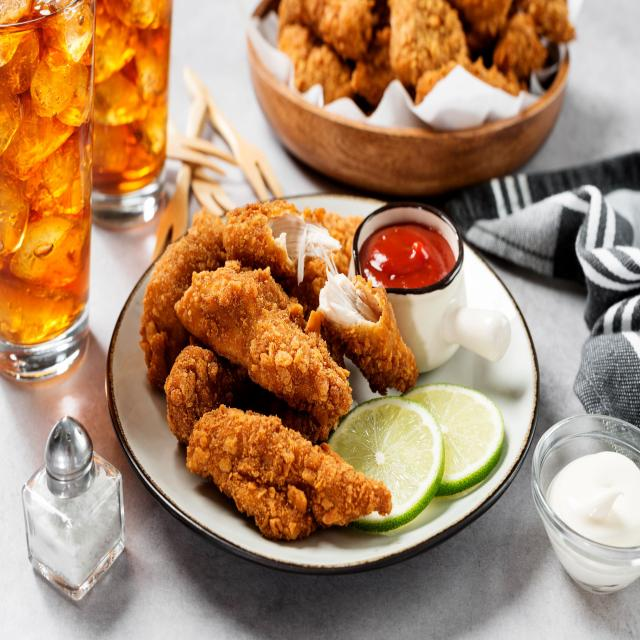pollo: (137, 200, 412, 556)
